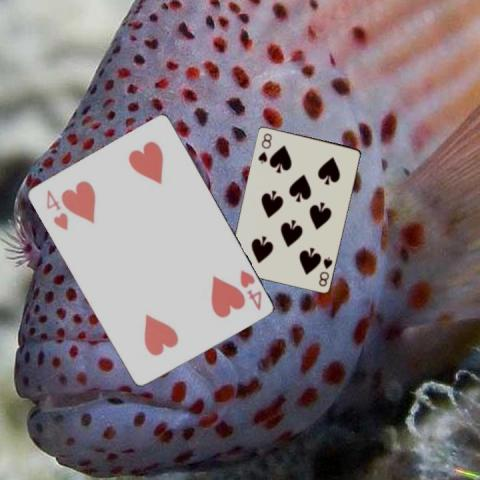4h: (43, 186, 69, 232), (236, 267, 263, 311)
8s: (255, 130, 274, 165), (316, 254, 334, 288)
